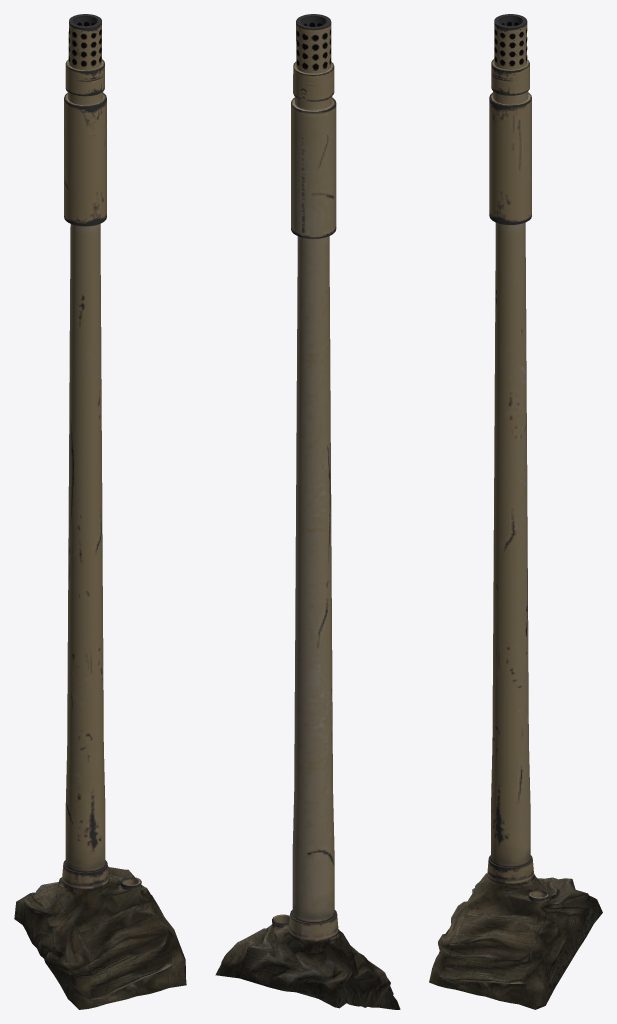
File: Gun_05.glb
3 views of the same model, side by side, from view 1: azimuth 30°, elevation 25°; view 2: azimuth 150°, elevation 25°; view 3: azimuth 330°, elevation 25° (orthographic). The views are drawn at different scales.
Parts seen in each view (by area): view 1: set_0_group_0; view 2: set_0_group_0; view 3: set_0_group_0.
Boxes of the visible parts, x1,y1,x2,y2 form: set_0_group_0: [14, 14, 186, 1009]; set_0_group_0: [215, 14, 400, 1009]; set_0_group_0: [429, 14, 602, 1009].
Size of the model in its own units: 0.7644 by 5.9 by 0.7413.
1 material, 1 textured.
